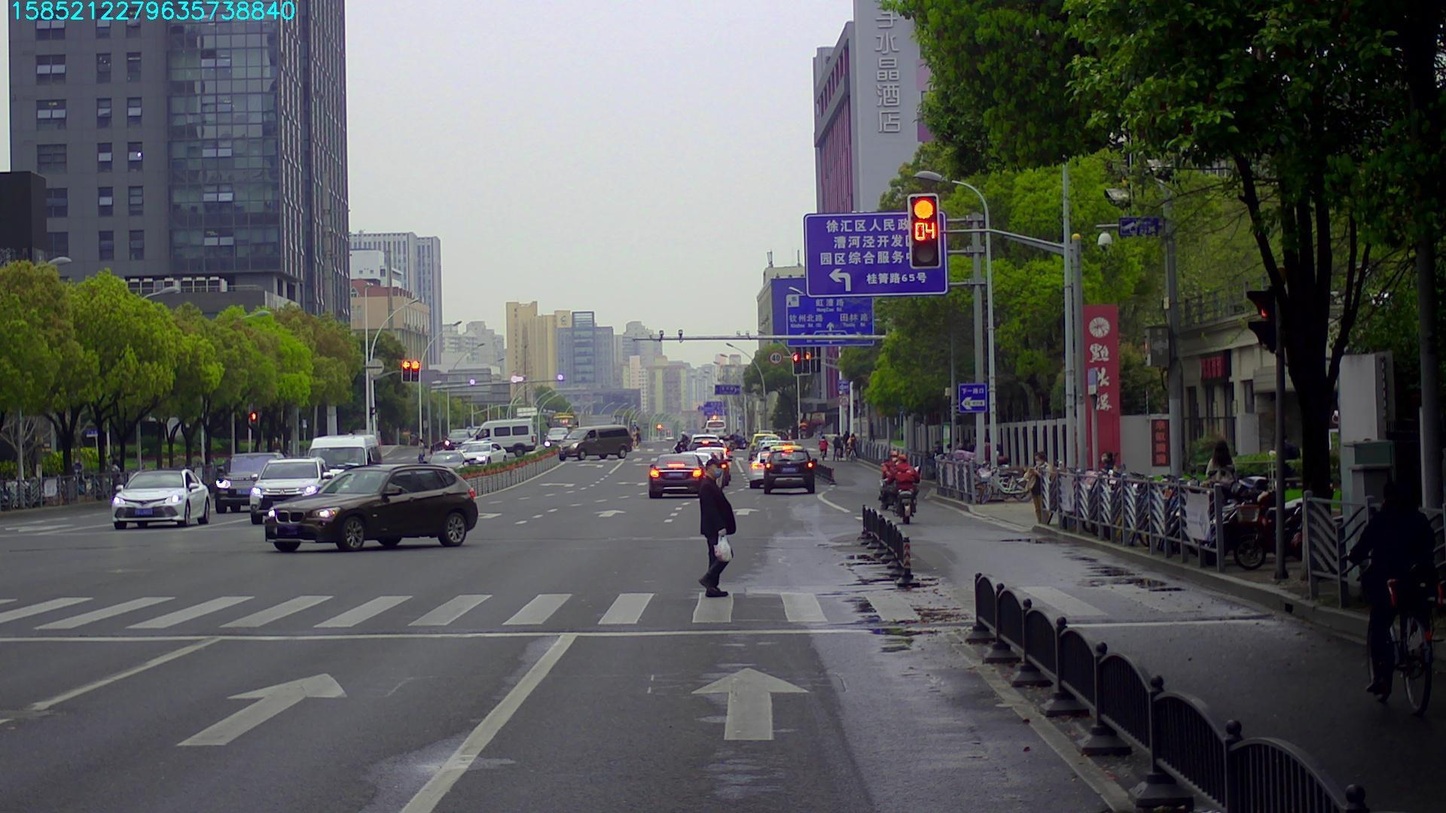red: (907, 196, 939, 266), (401, 359, 410, 382), (801, 352, 810, 374), (410, 358, 418, 382), (792, 353, 801, 374)
